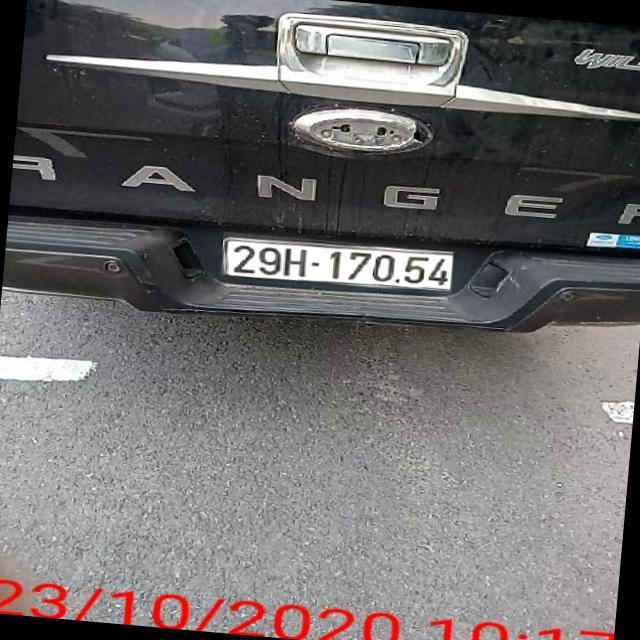car: (0, 0, 640, 352)
plate: (227, 236, 462, 297)
